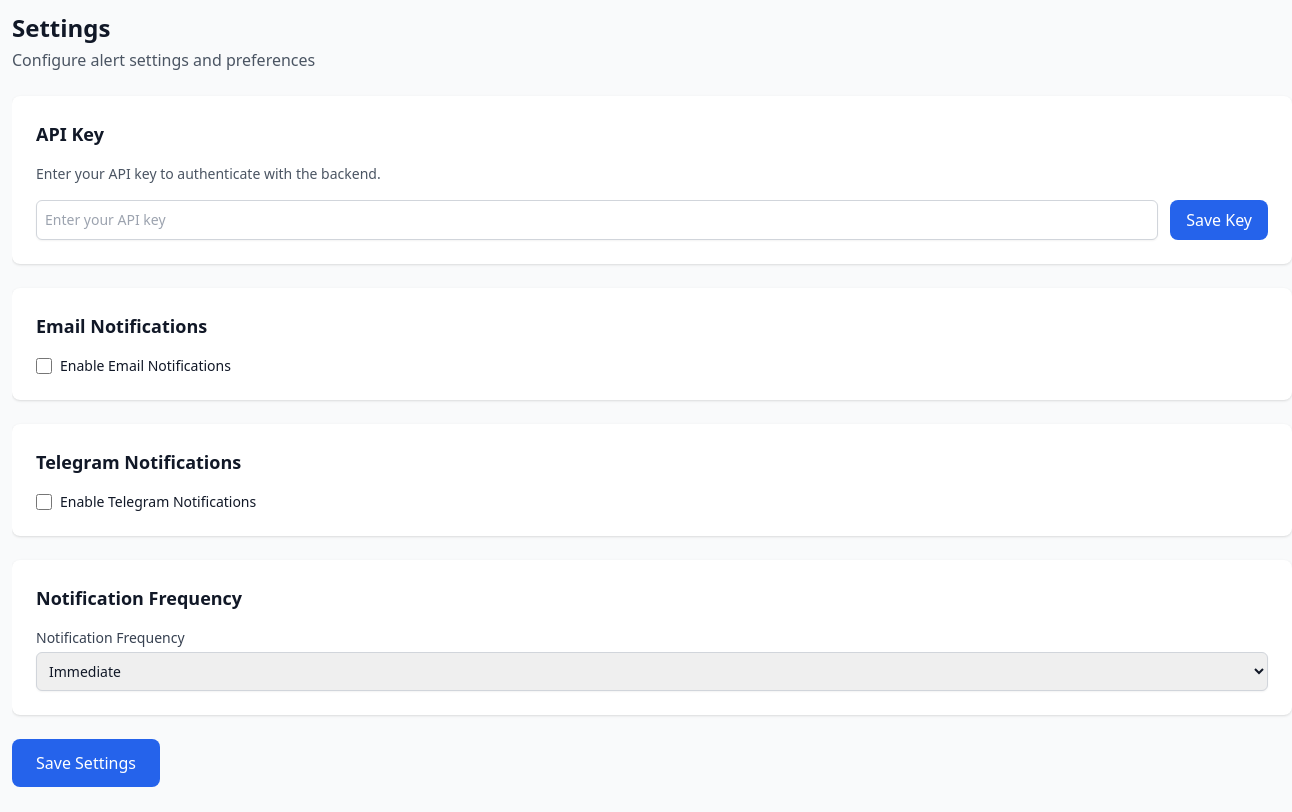
SettingsPage › should show success message after saving
Click the button "Save Settings" at (86,763), box [12, 739, 160, 787]
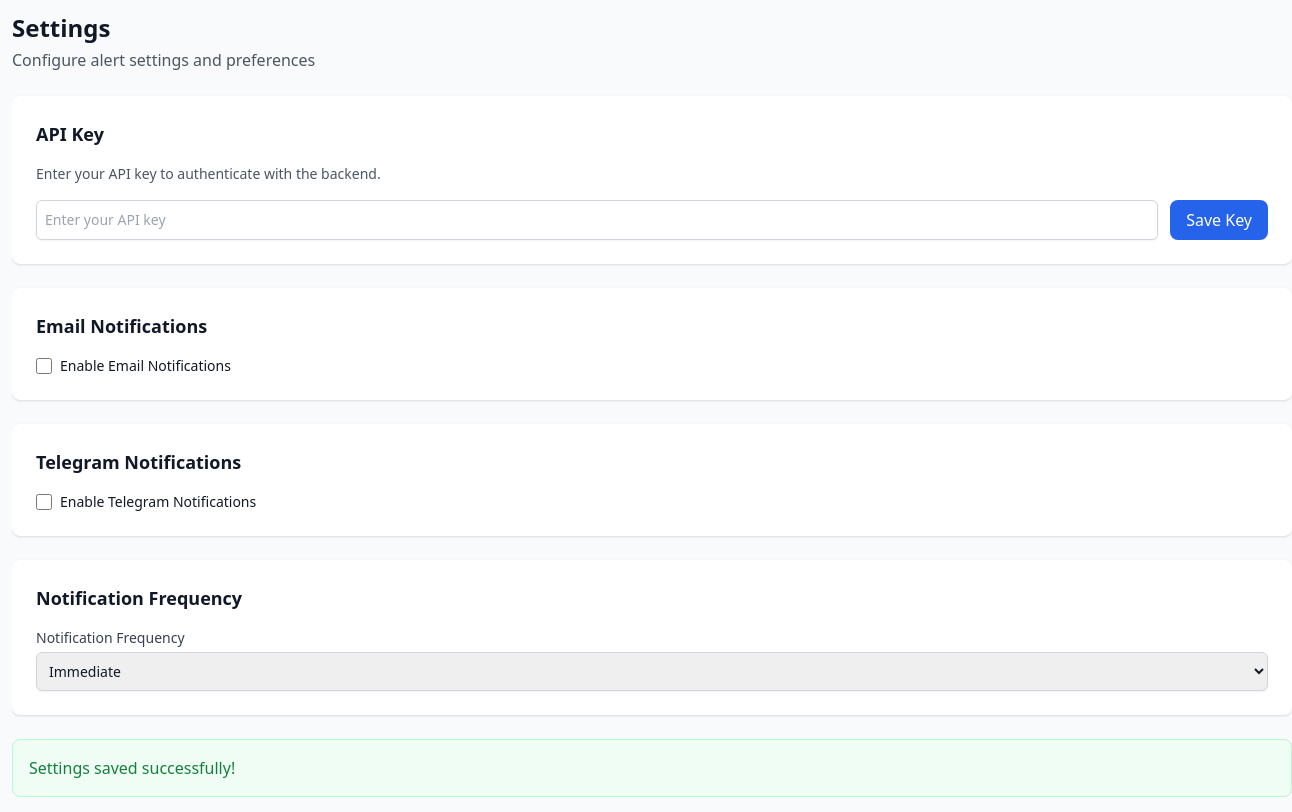
Result: the text "Settings saved successfully!" is shown at [29, 757, 235, 779]
